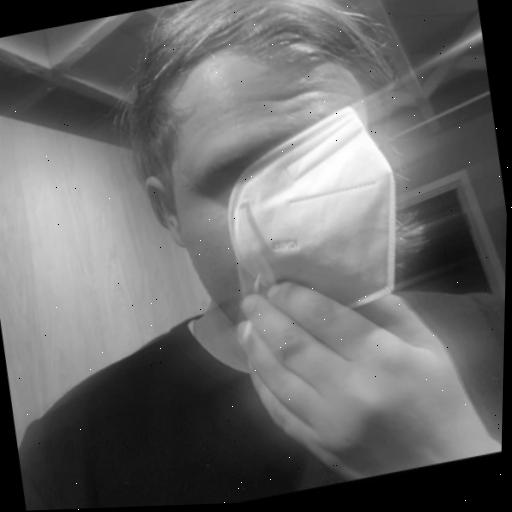mask: (105, 0, 456, 371)
